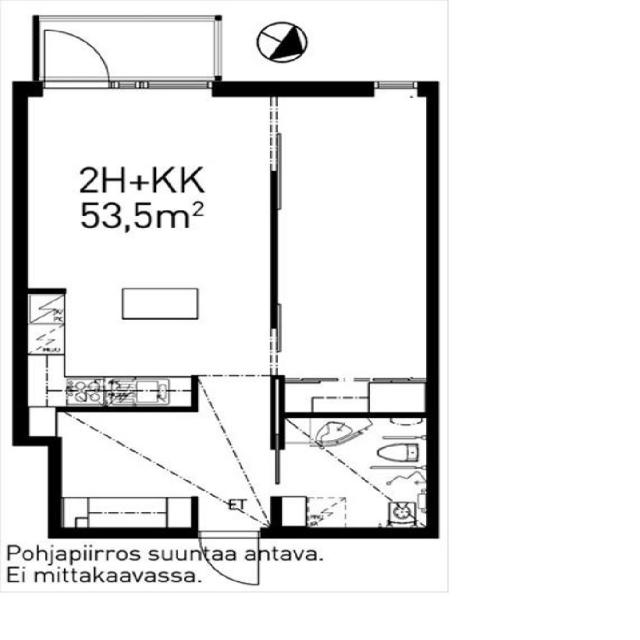door: (44, 29, 109, 96), (200, 528, 258, 584)
